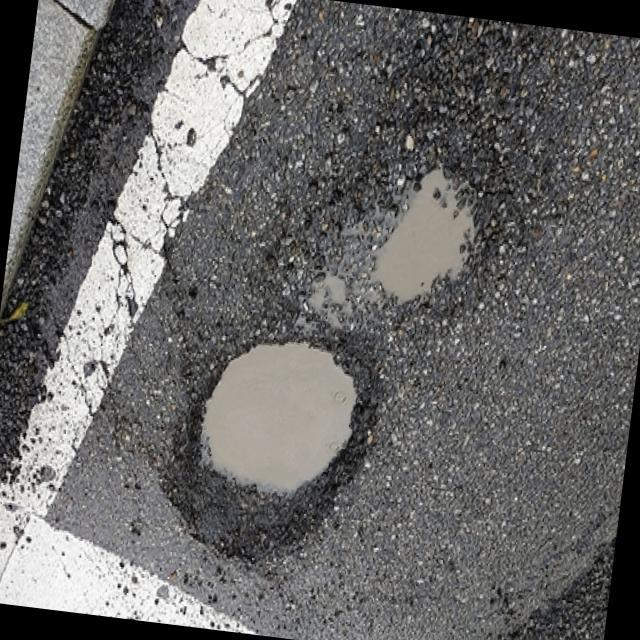pothole: (130, 320, 412, 570), (338, 109, 522, 356)
